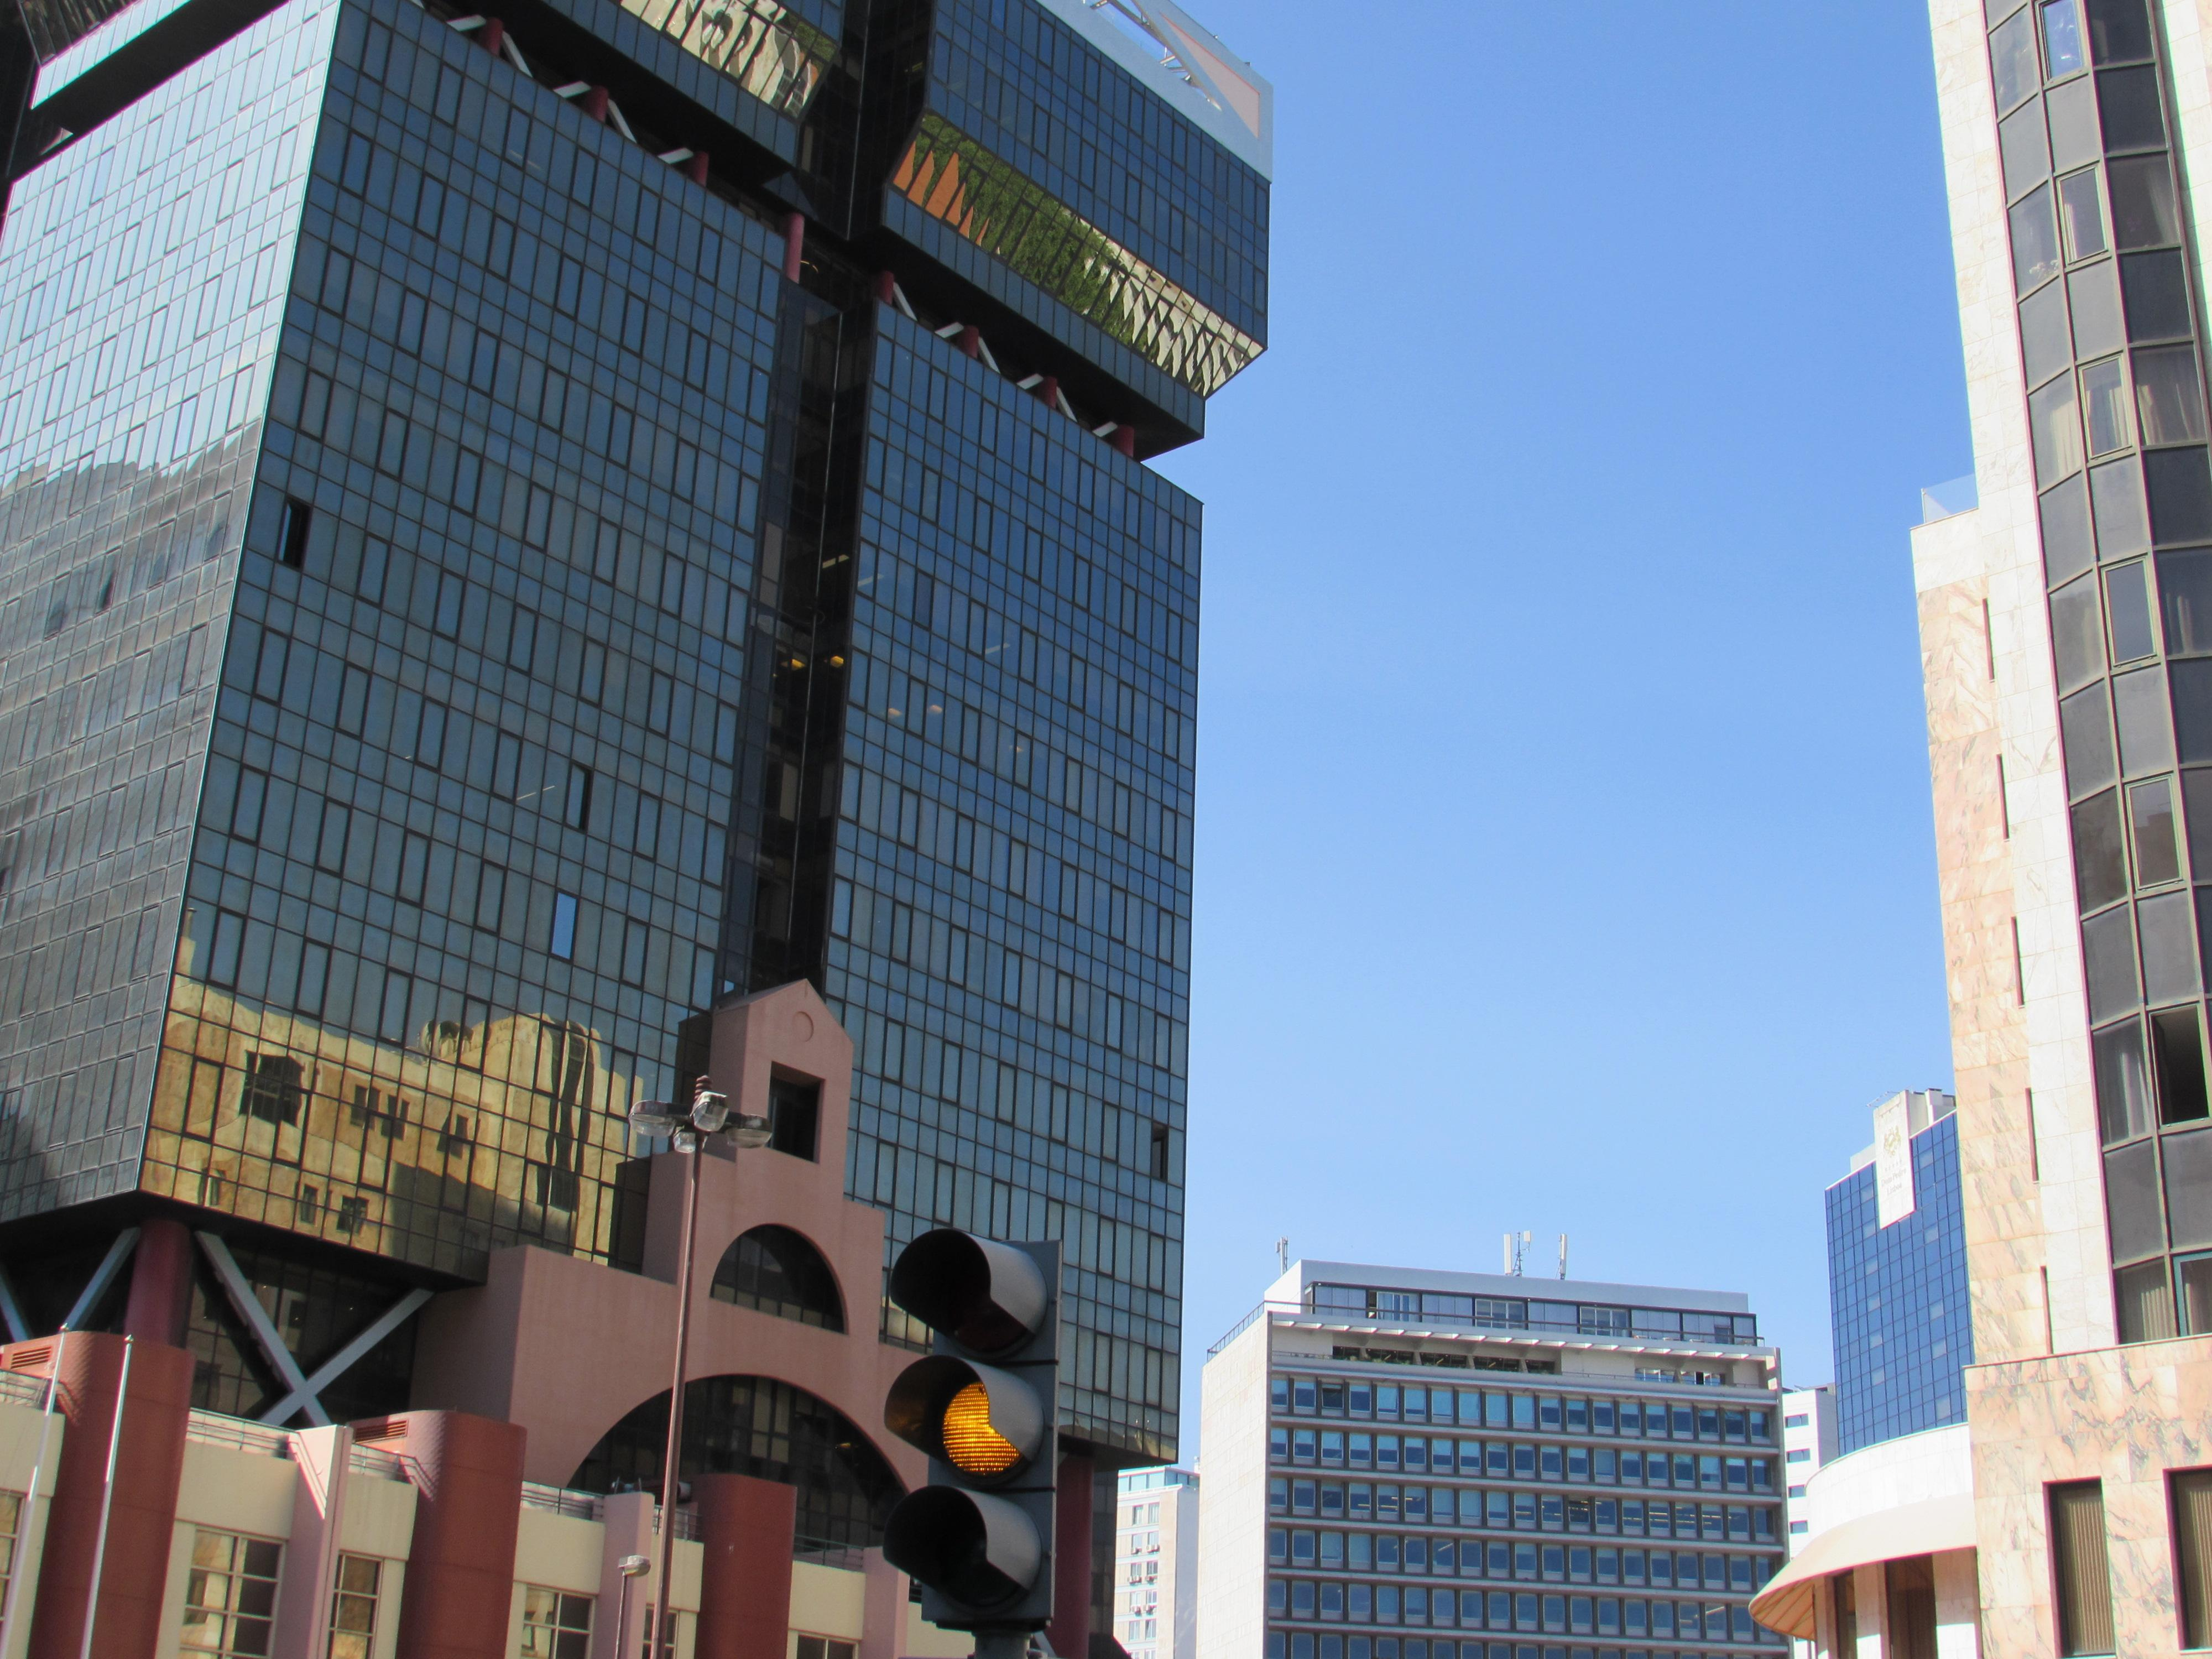yellow_light: (883, 1229, 1063, 1632)
